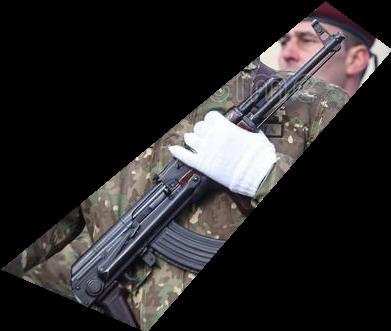gun: (1, 1, 391, 331)
